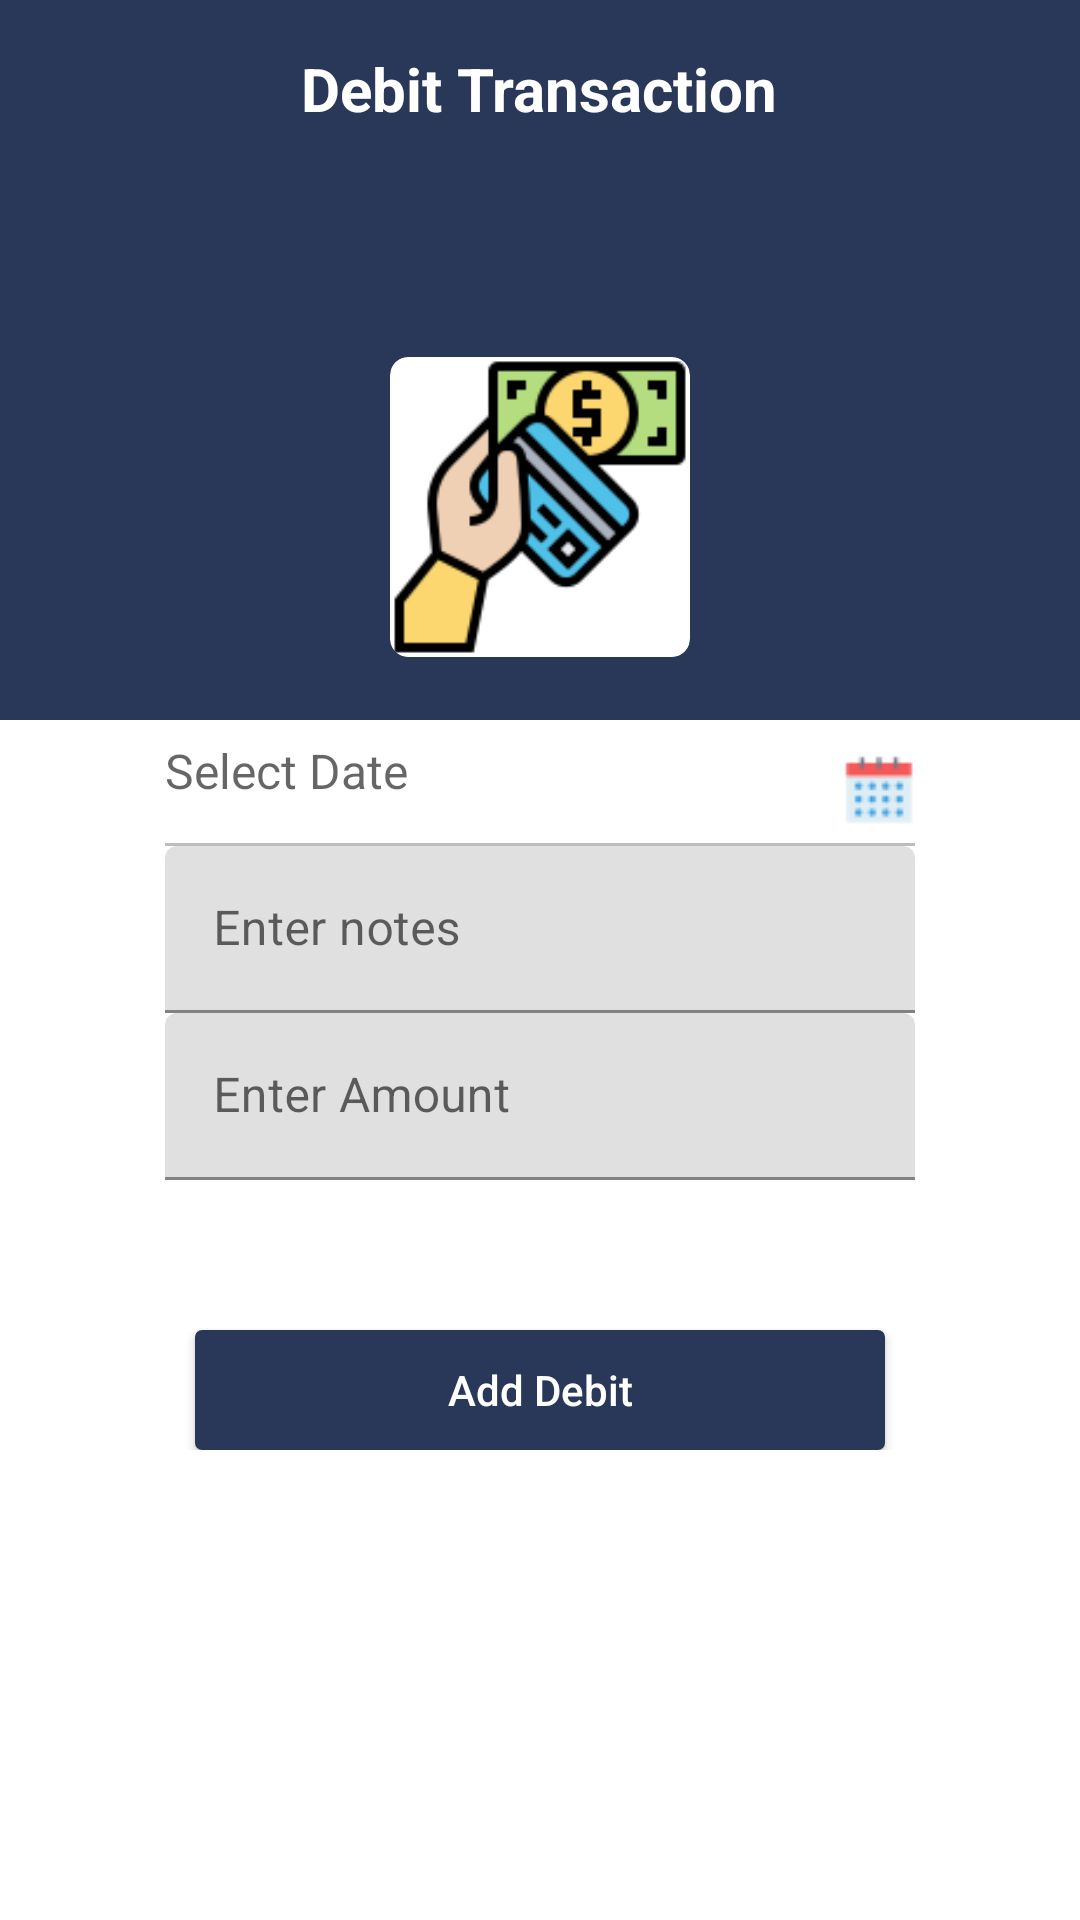

Named icons in this screenshot (1080×1920) and their centers, (x=x, y=y):
debitcard: (x=540, y=507)
